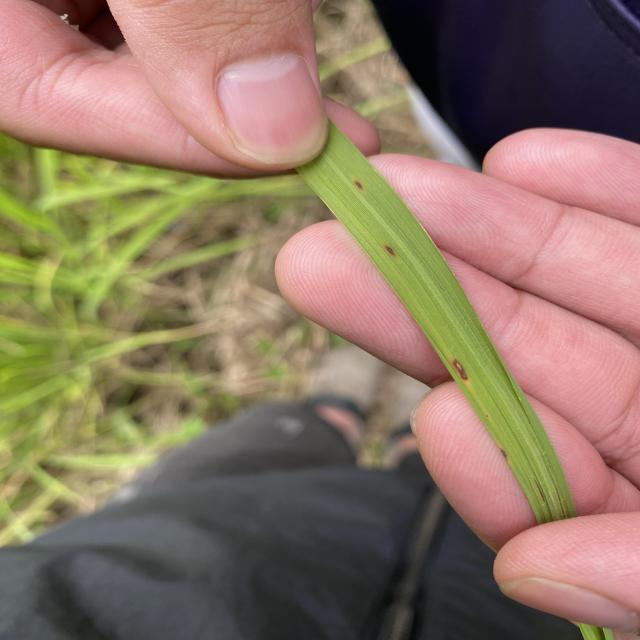Dom nau: (450, 358, 469, 382), (384, 245, 396, 257), (354, 181, 364, 190), (501, 449, 507, 458)
